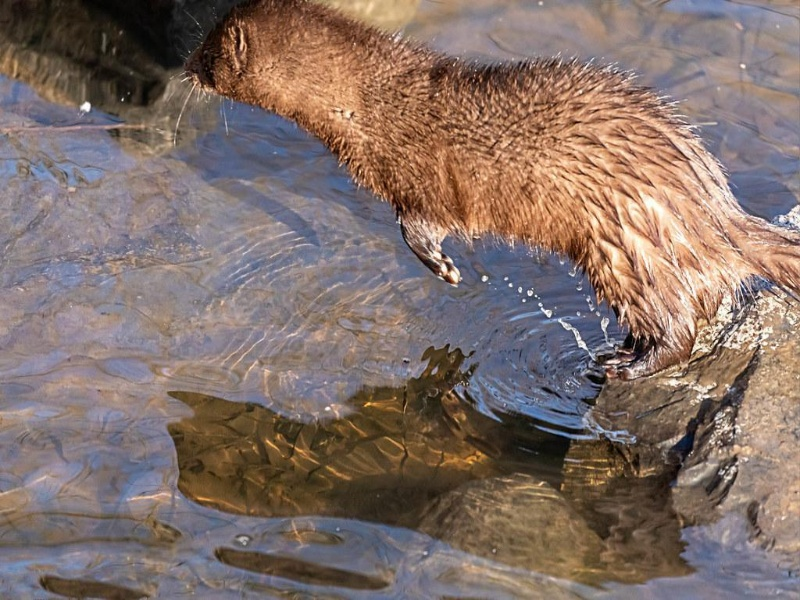minkish: (187, 3, 799, 391)
